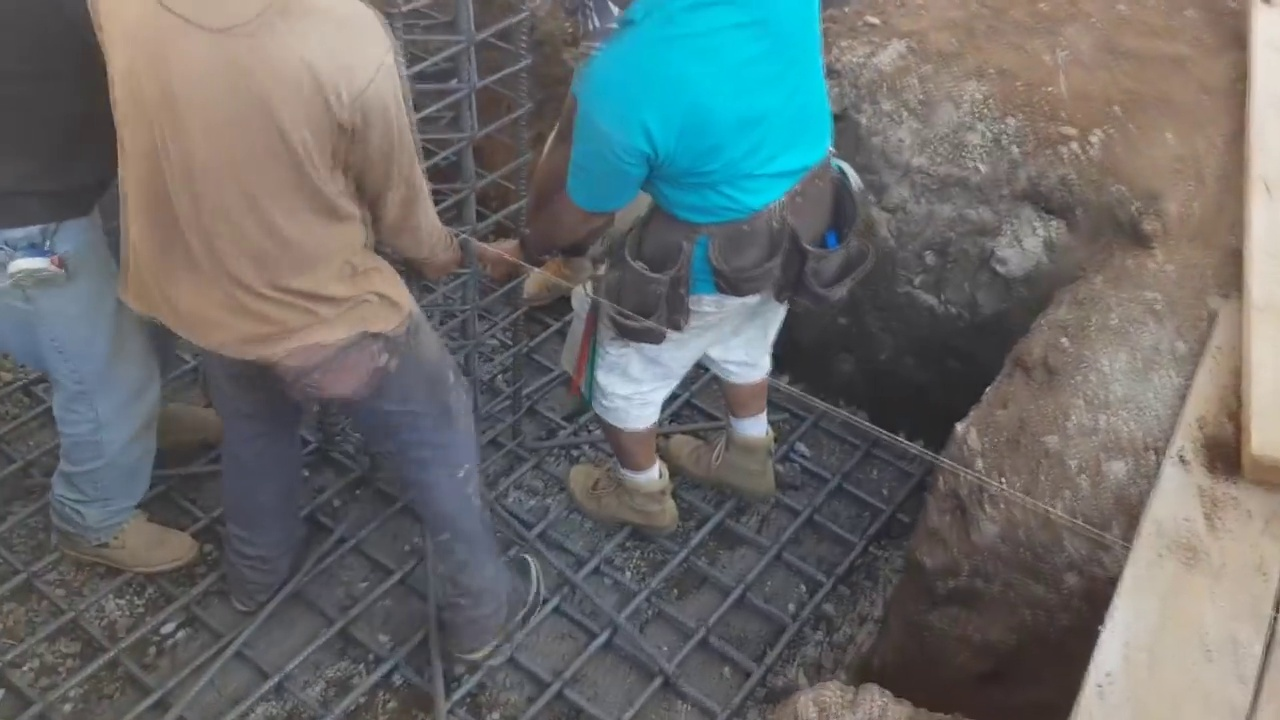person: (87, 0, 542, 665), (517, 0, 859, 544), (4, 5, 177, 583)
